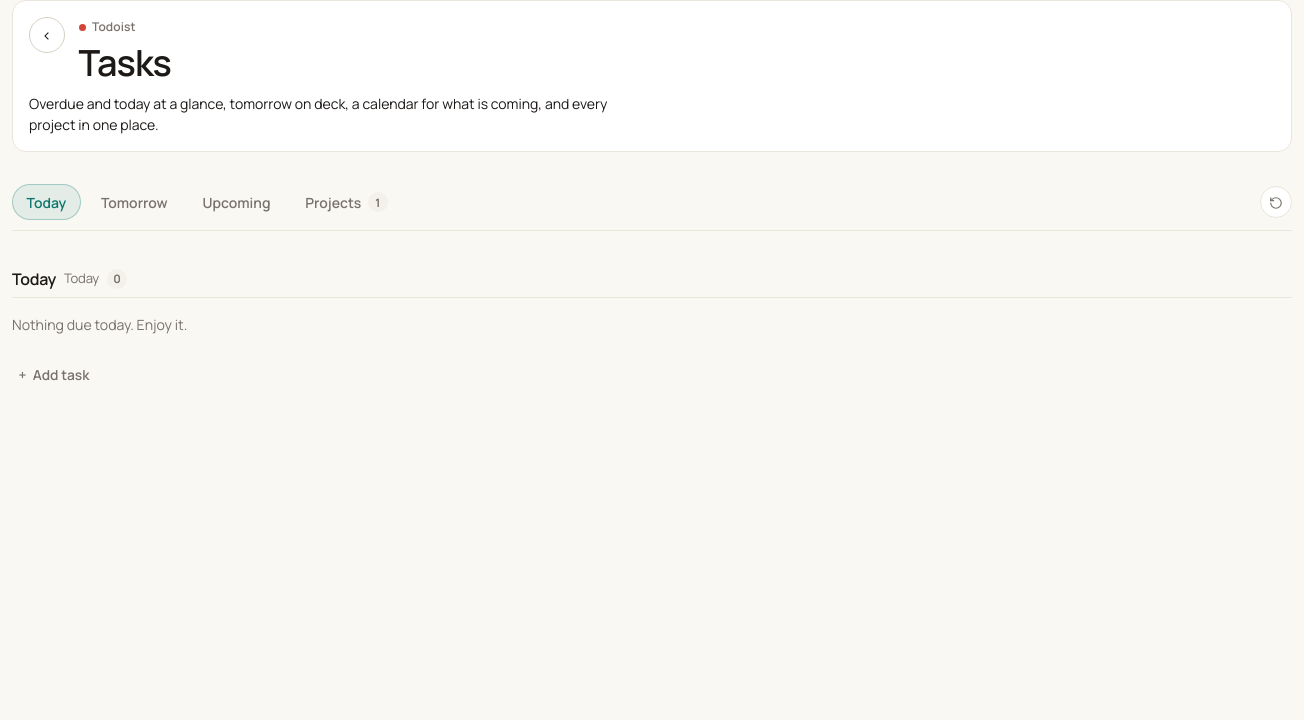
Scenario: renaming a project › saves the new name to Todoist and shows it
Click the button "Projects 1" at (346, 202), box [291,184,402,220]
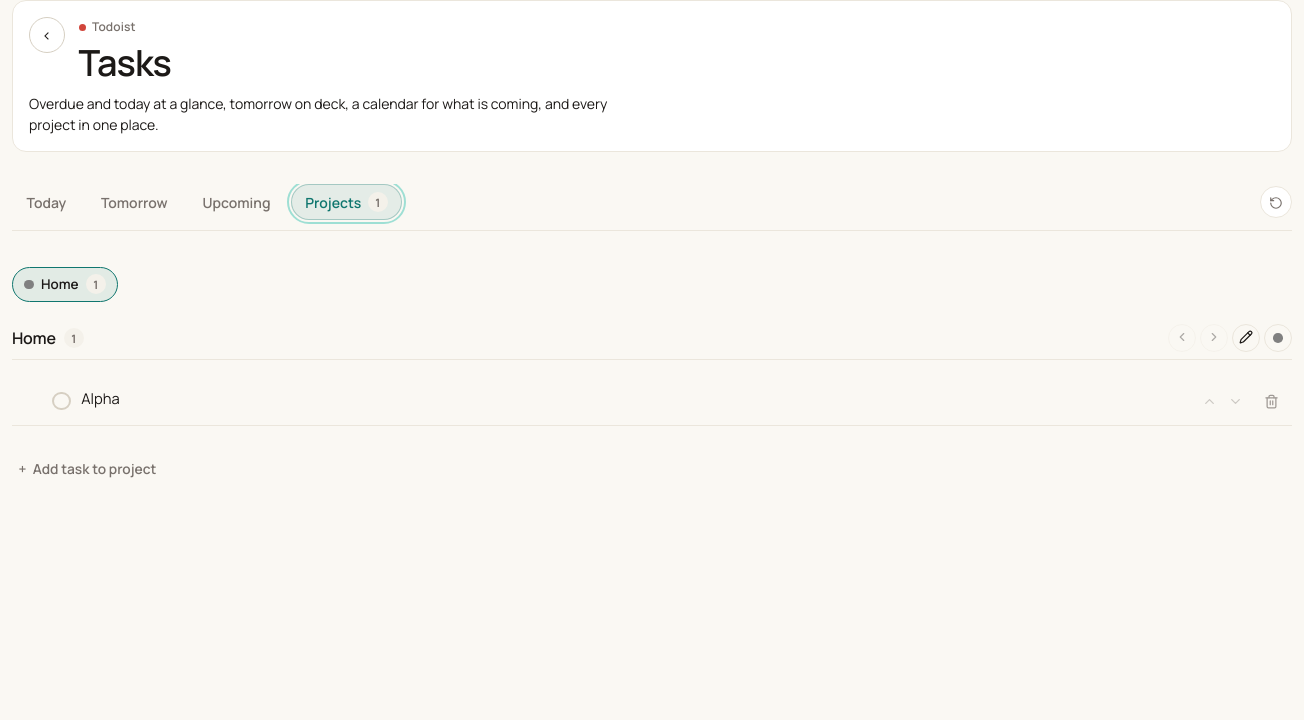
Result: the text "Alpha" is shown at [81,388,120,408]
Click the button named "Rename Home" at (1246, 338), box [1232,324,1260,352]
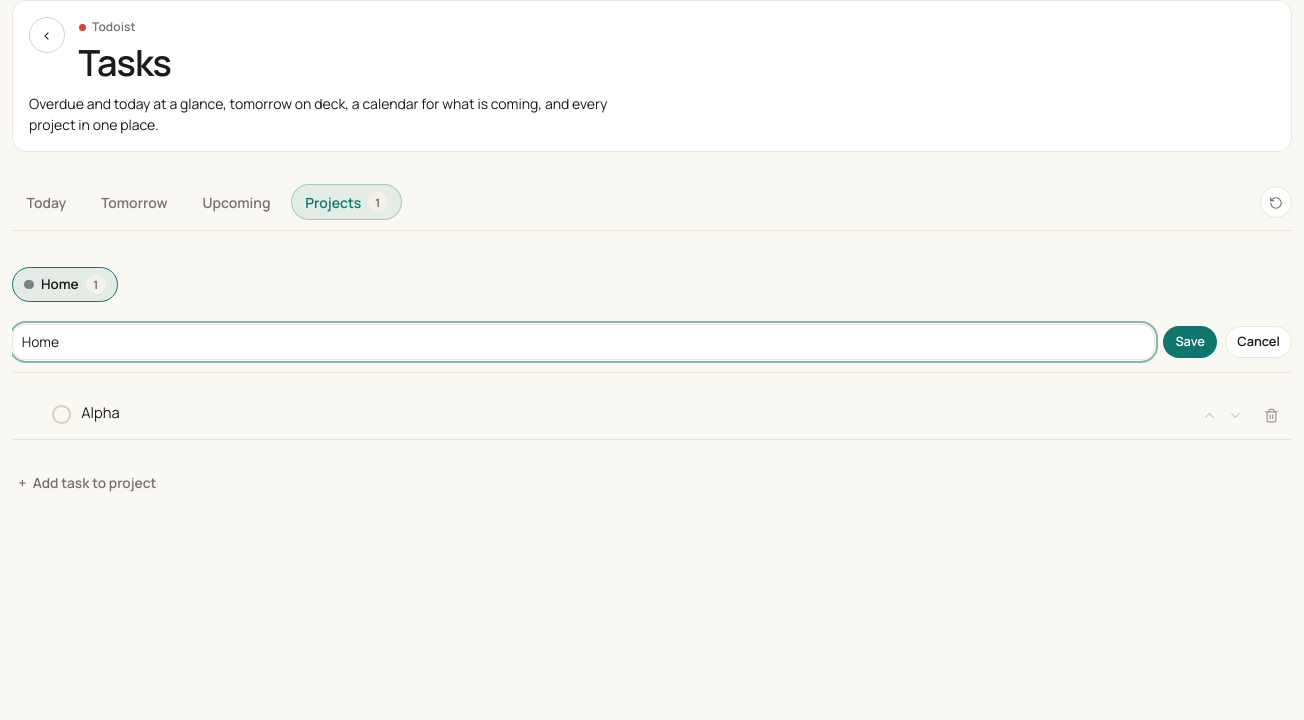
Replace the text in the field named "Project name" with "  Household  " at (584, 342), box [12,324,1155,360]
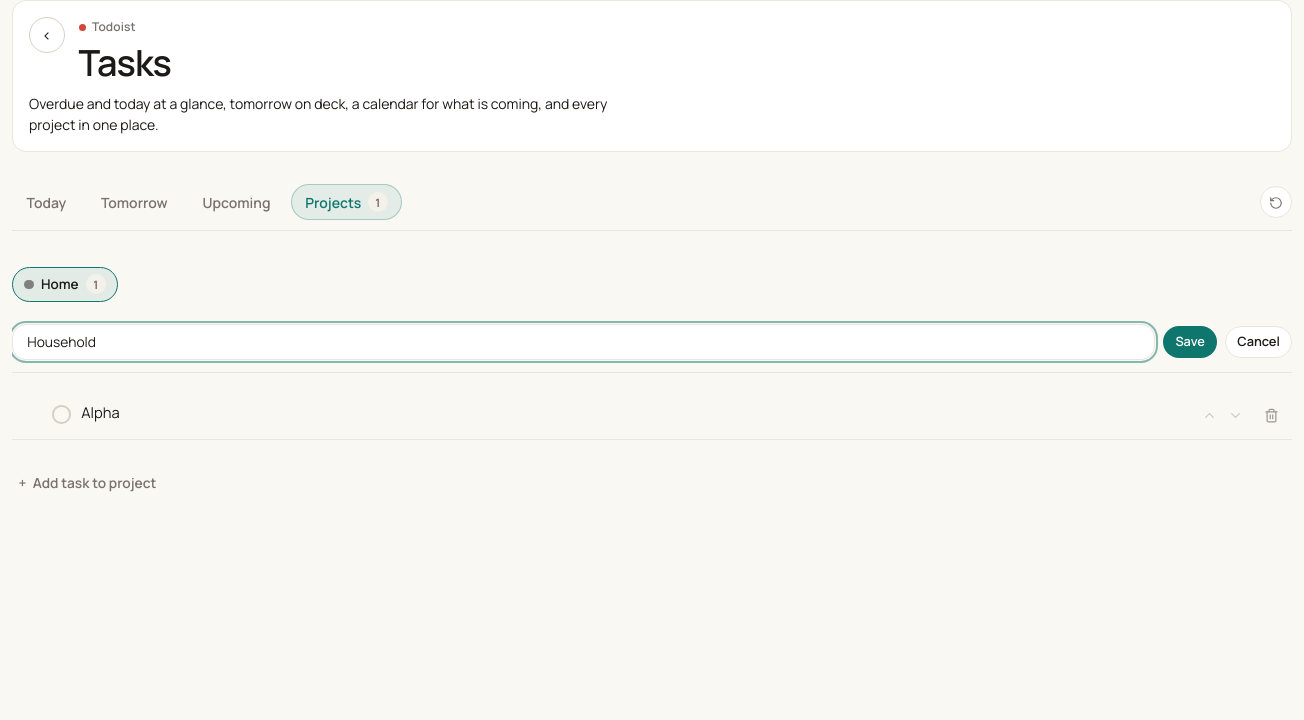
Click the button "Save" at (1190, 342), box [1163,326,1217,358]
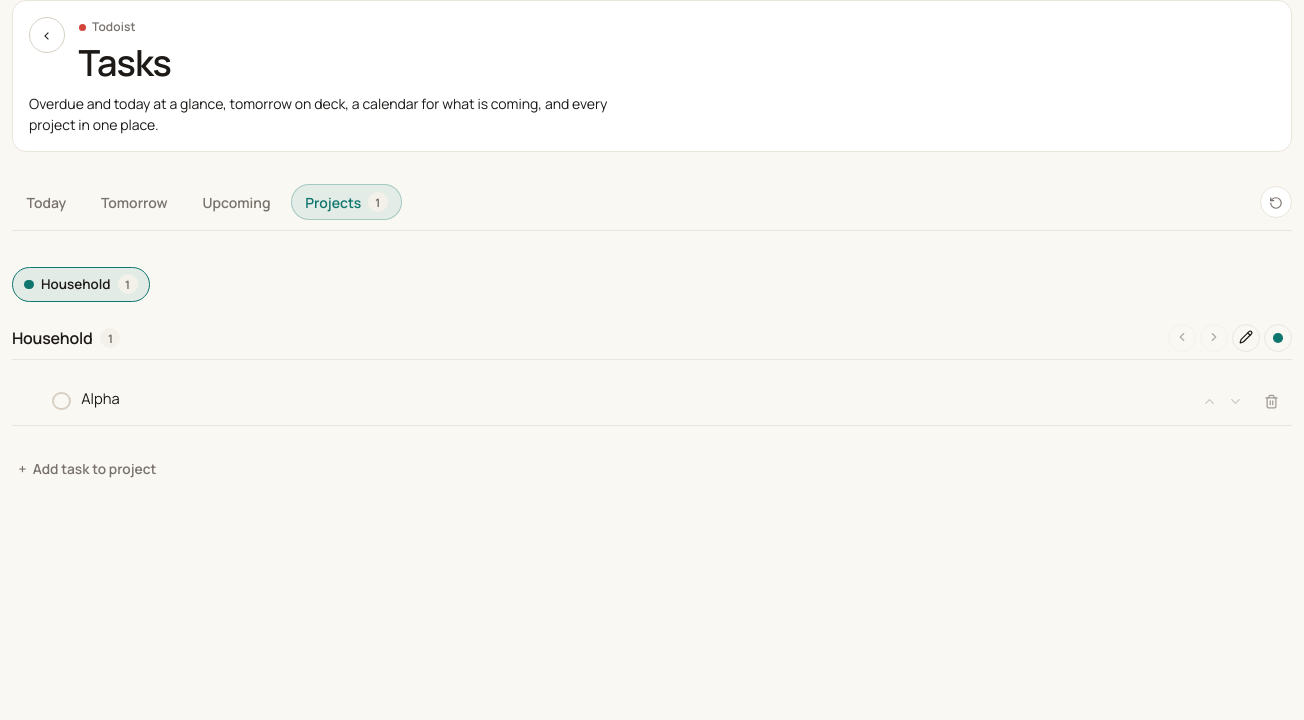
Result: the heading "Household 1" is shown at [12,326,120,350]
